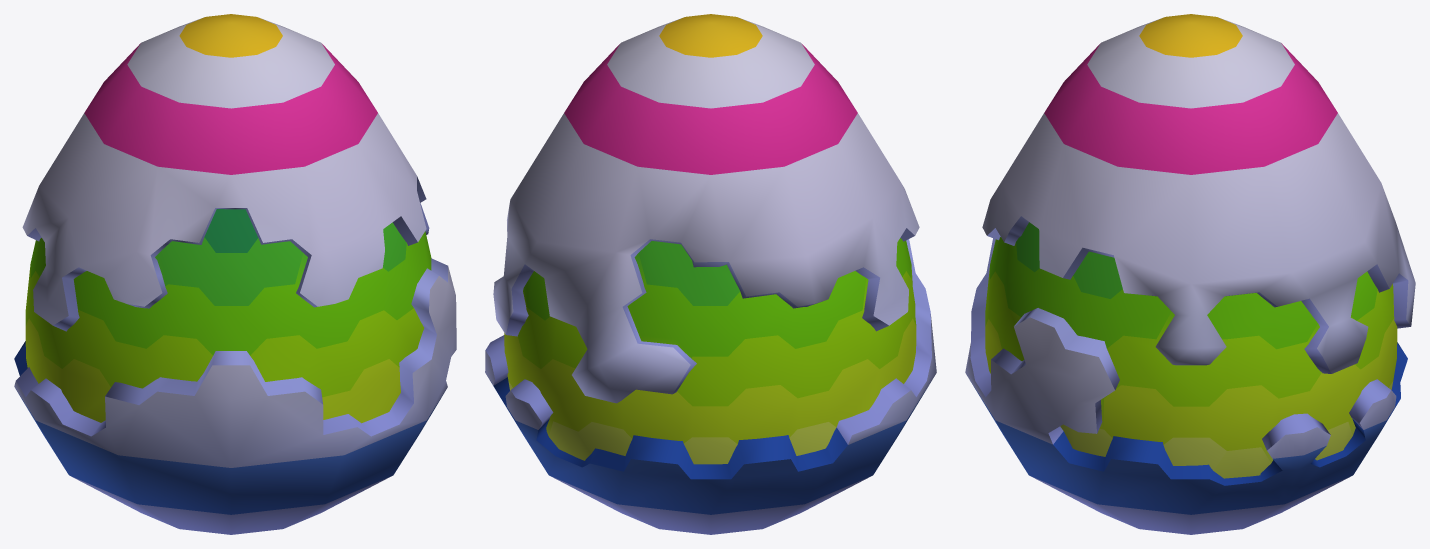
The model's file is Easteregg.fbx.
3 views of the same model, side by side, from view 1: azimuth 30°, elevation 25°; view 2: azimuth 150°, elevation 25°; view 3: azimuth 270°, elevation 25° (orthographic).
Visible parts, largest first — view 1: Easteregg; view 2: Easteregg; view 3: Easteregg.
Boxes of the visible parts, bbox=[...] form: Easteregg: bbox=[14, 14, 456, 534]; Easteregg: bbox=[485, 14, 936, 534]; Easteregg: bbox=[965, 14, 1415, 534].
Size of the model in its own units: 1.21 by 1.23 by 1.48.
